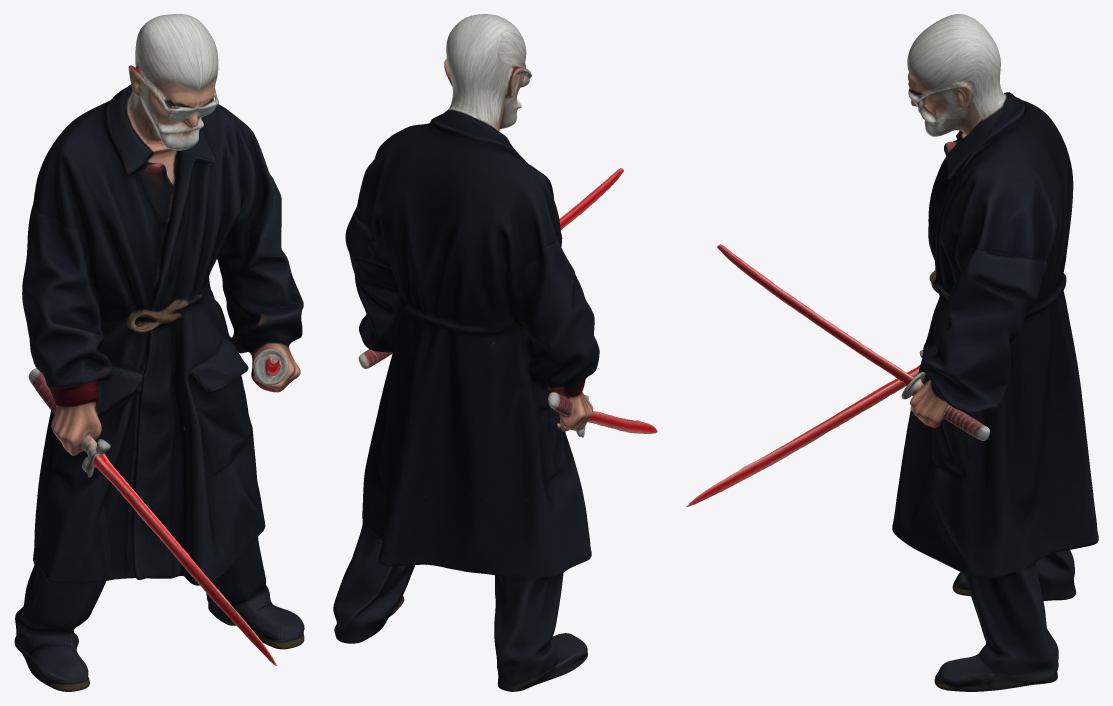
The model's file is game_player.glb.
3 renders of one model, left to right at view 1: azimuth 30°, elevation 25°; view 2: azimuth 150°, elevation 25°; view 3: azimuth 270°, elevation 25°, orthographic. The views are drawn at different scales.
Size of the model in its own units: 0.7866 by 1.9 by 1.16.
Materials: 1 (1 with a texture image).
